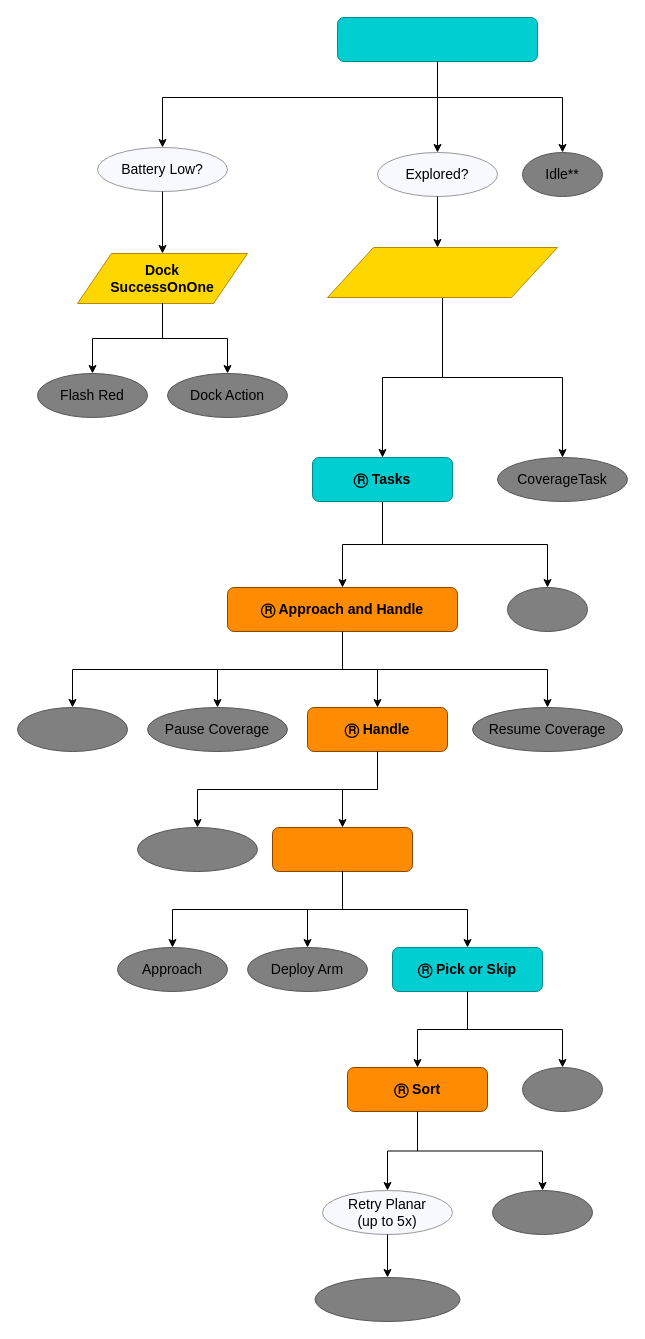
This 645x1339 diagram has some shape labels left out. Here are the shapes that lost their labels. From the top down, the centre of each, then its label:
At point (437, 39): "Lab Clean Navigation".
At point (442, 272): "Coverage and Detection".
At point (547, 609): "Idle*".
At point (72, 729): "Objects?".
At point (197, 849): "Flash Green".
At point (342, 849): "Ⓡ Pick Up".
At point (562, 1089): "Idle".
At point (542, 1212): "Place".
At point (387, 1299): "Planar_Detected?".
